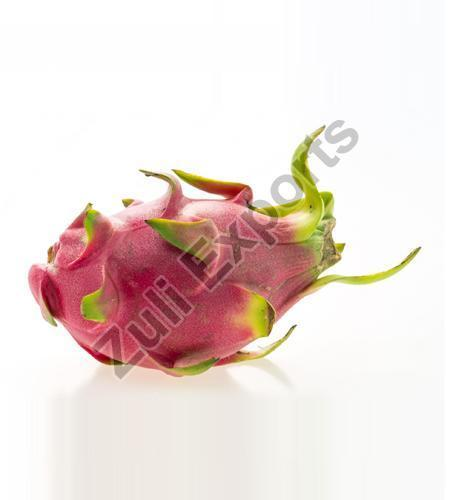dragon-fruit: (25, 196, 313, 373)
